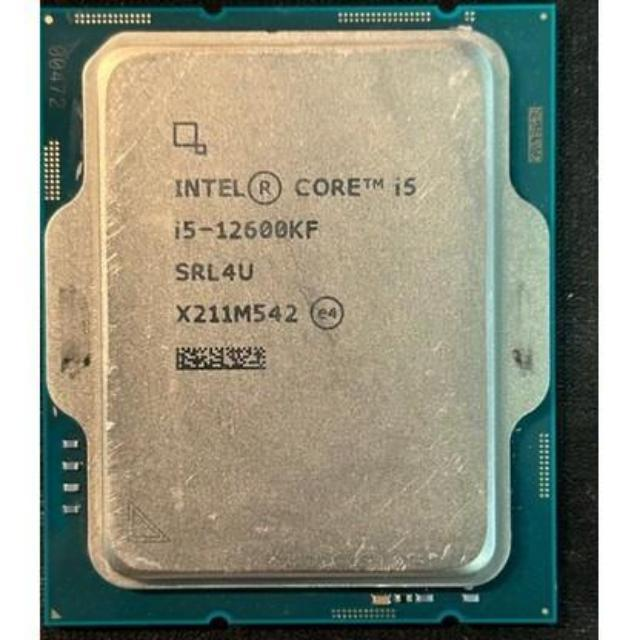CPU: (39, 12, 556, 623)
